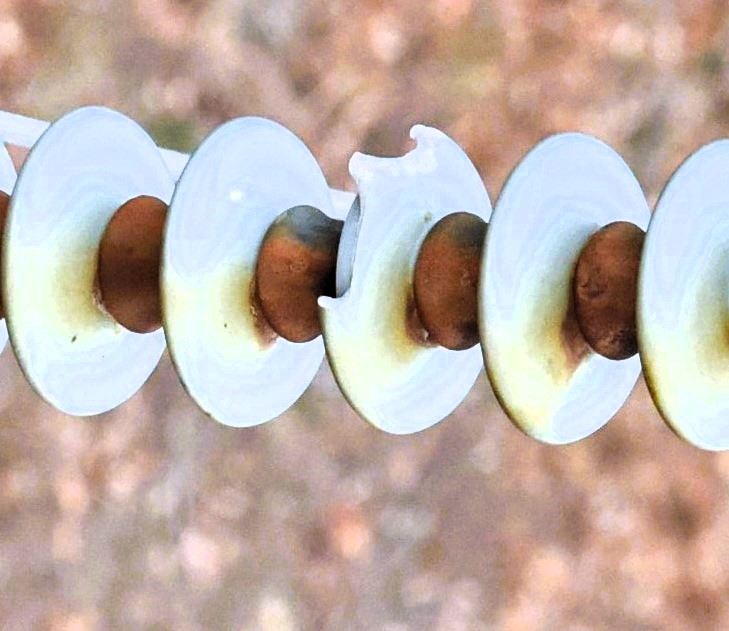insulator breakage: (310, 114, 481, 445)
